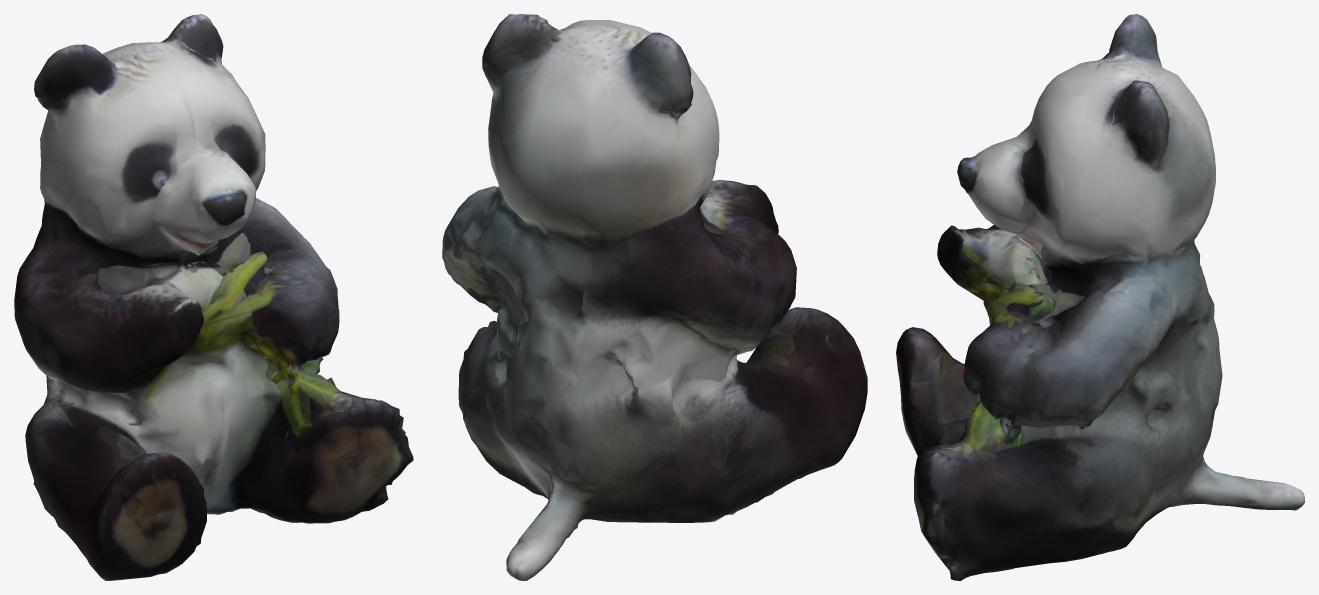
3 views of the same model, side by side, from view 1: azimuth 30°, elevation 25°; view 2: azimuth 150°, elevation 25°; view 3: azimuth 270°, elevation 25° (orthographic). The views are drawn at different scales.
Size of the model in its own units: 0.8837 by 1.2 by 0.9511.
1 material, 1 textured.
